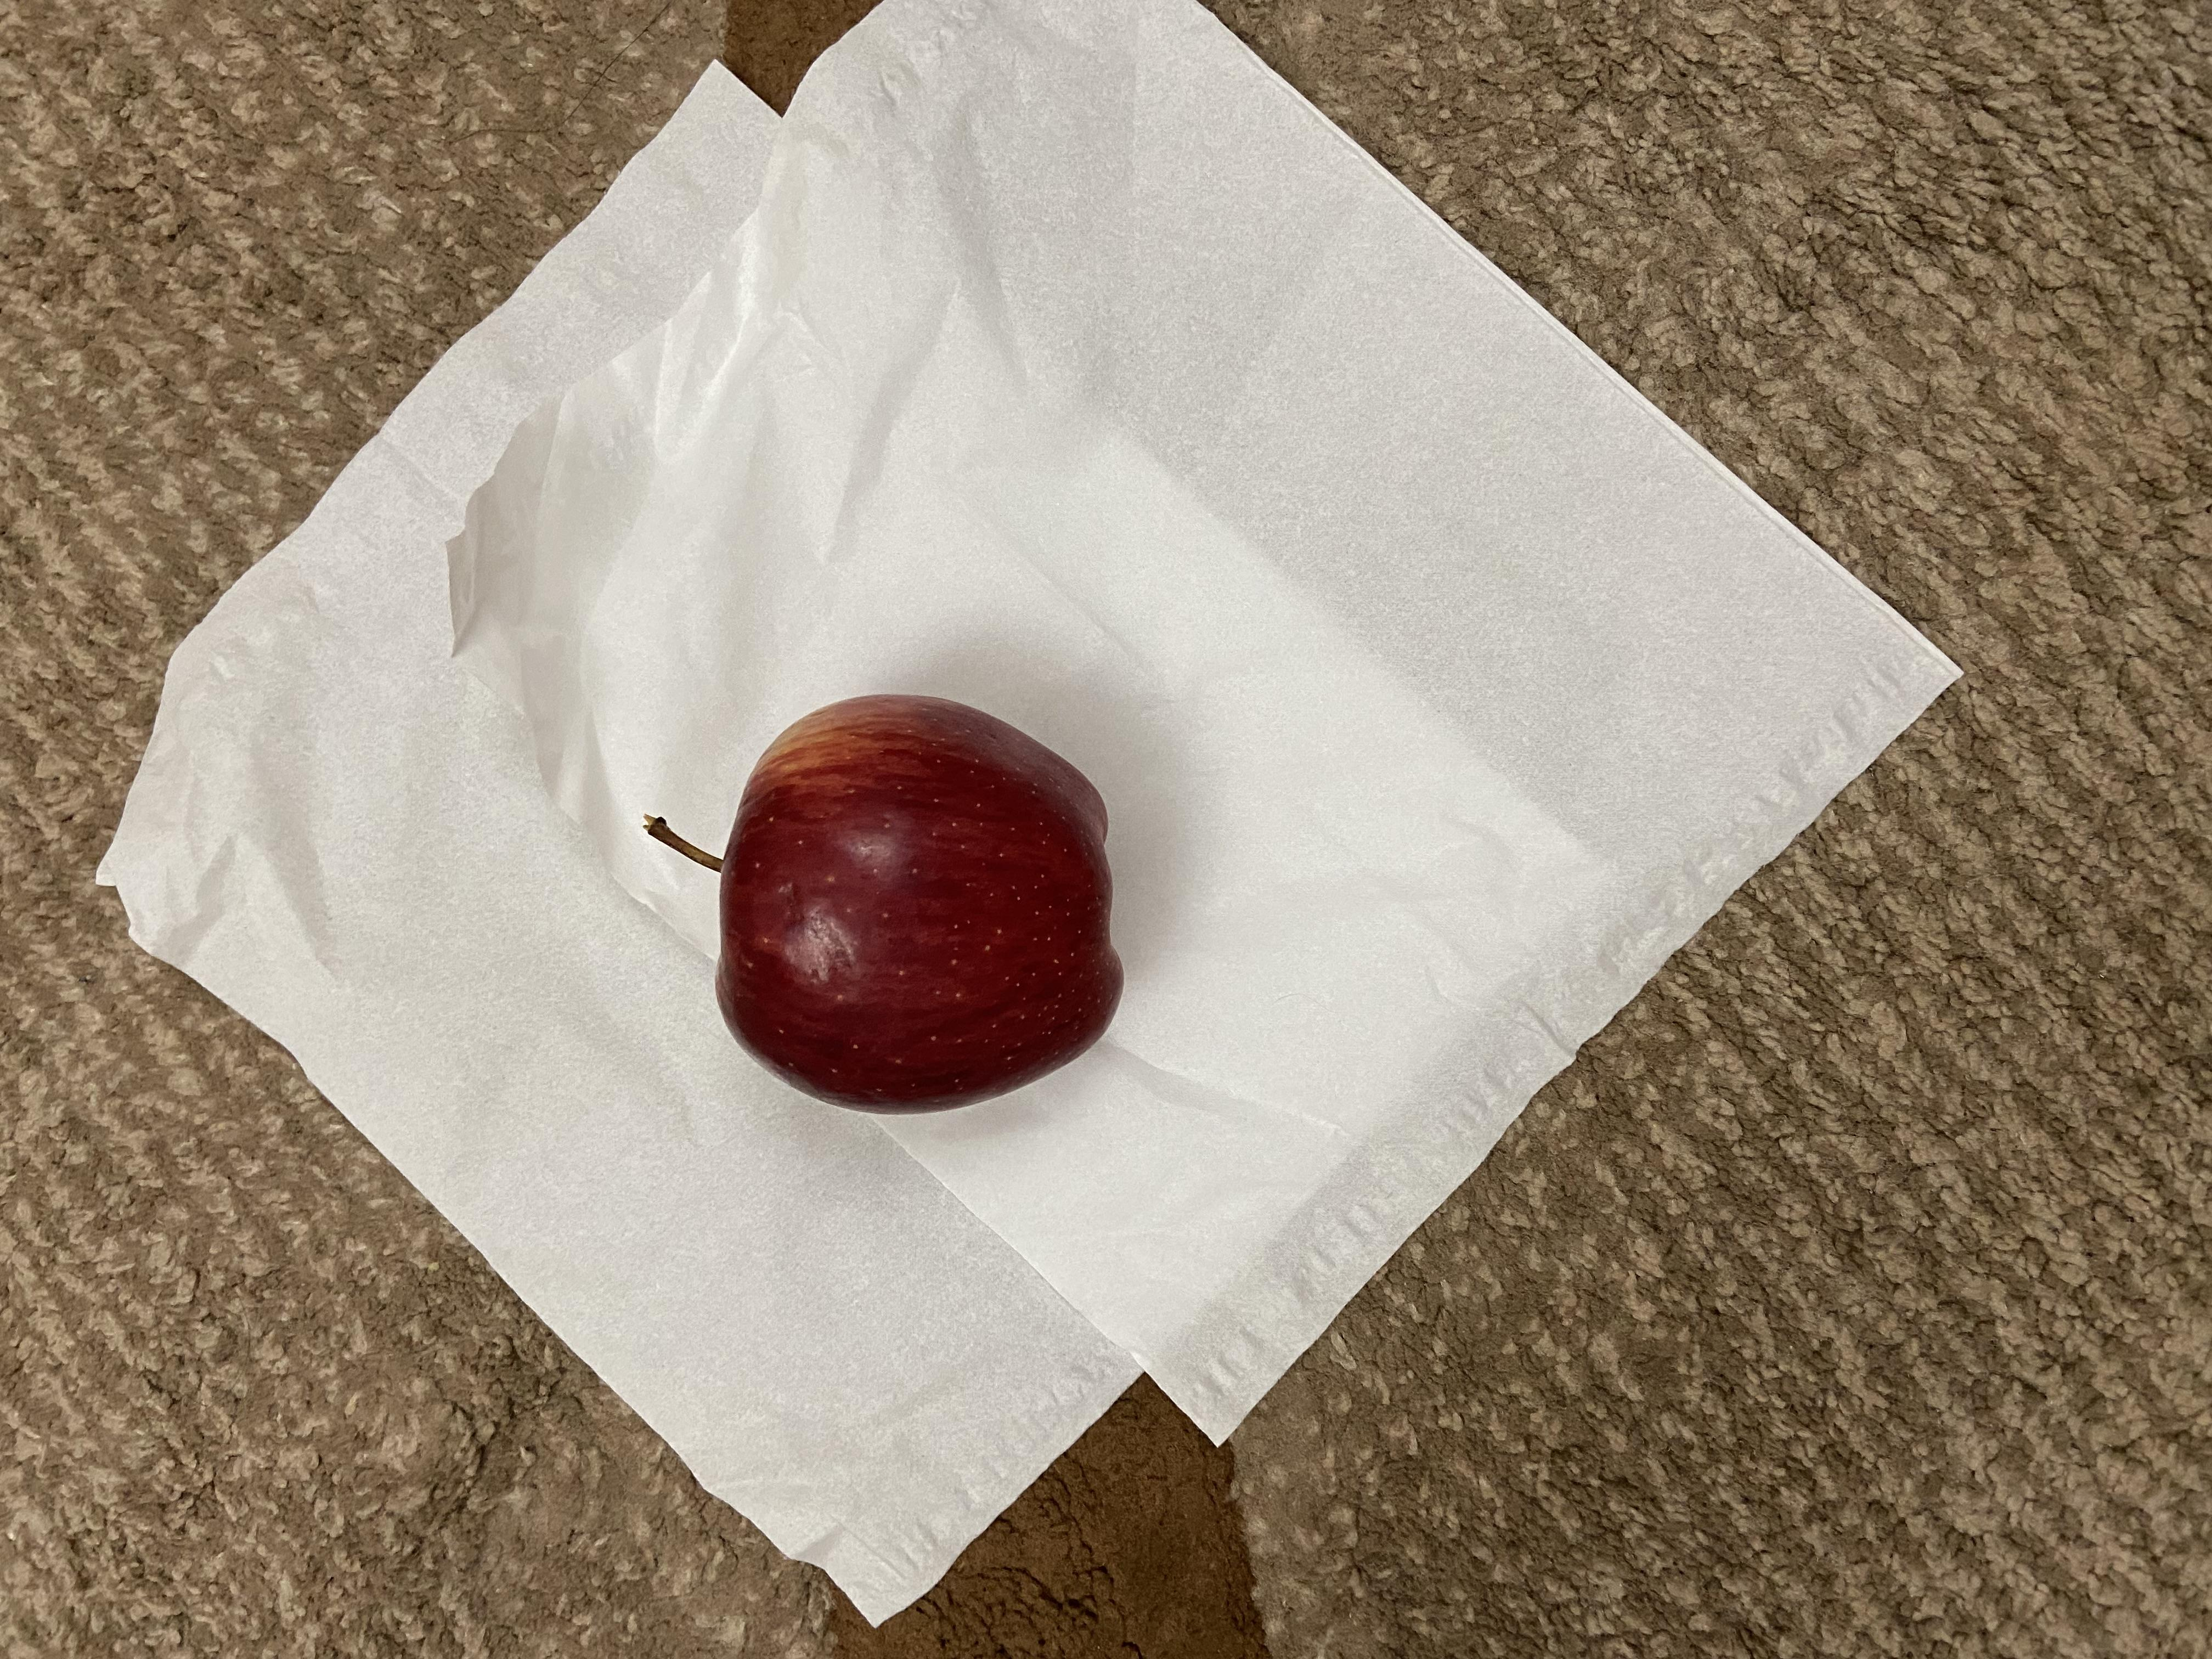Apple: (726, 477, 1289, 852)
